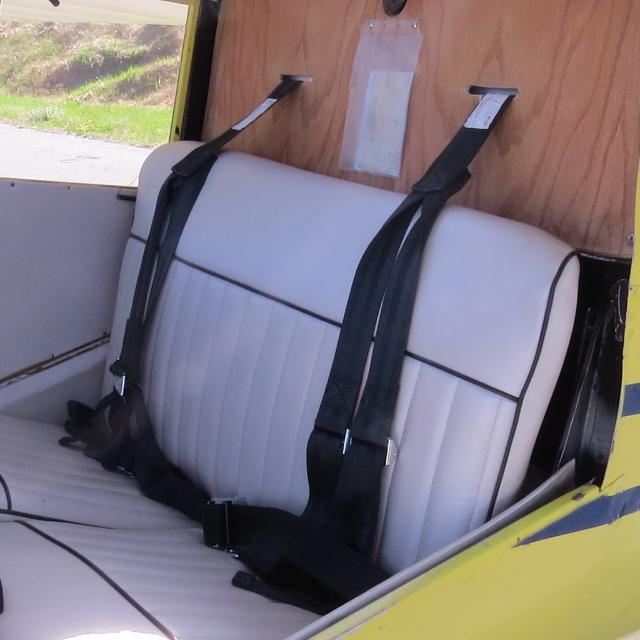Seatbelt: (202, 95, 516, 613), (56, 76, 296, 516)
